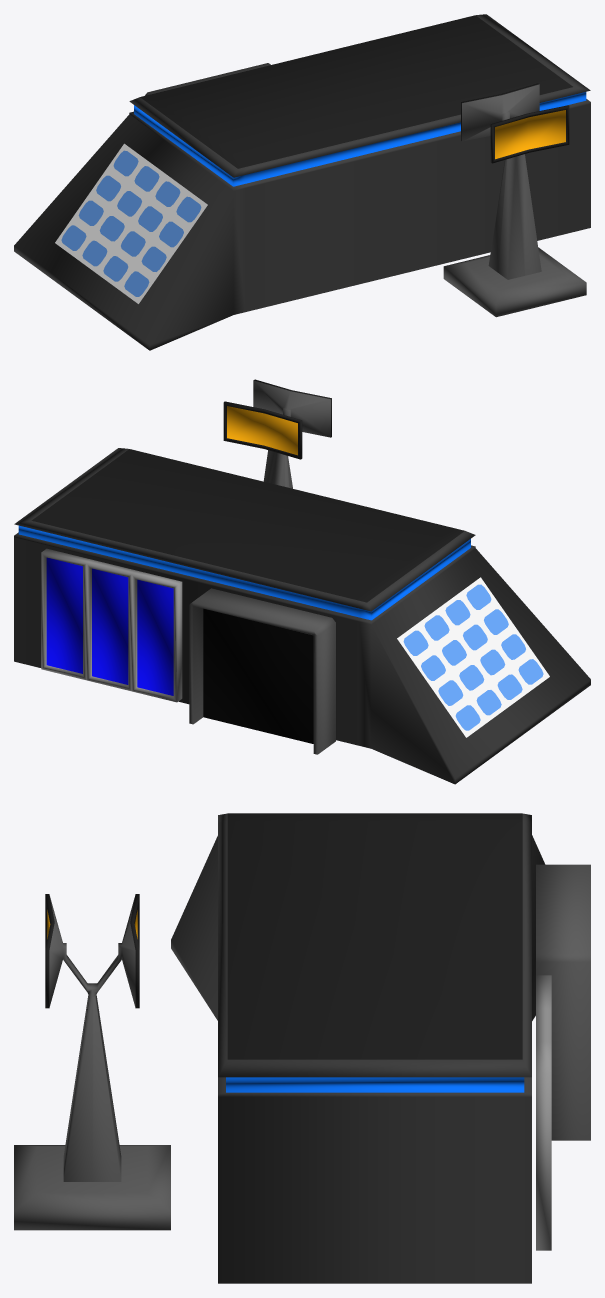
The model's file is NATO Outpost.obj.
3 views of the same model, one above another, from view 1: azimuth 30°, elevation 25°; view 2: azimuth 150°, elevation 25°; view 3: azimuth 270°, elevation 25° (orthographic). The views are drawn at different scales.
Parts seen in each view (by area): view 1: NATOOutpost_Cube.003; view 2: NATOOutpost_Cube.003; view 3: NATOOutpost_Cube.003.
Part boxes in pixels (bbox=[...]): NATOOutpost_Cube.003: bbox=[14, 14, 590, 350]; NATOOutpost_Cube.003: bbox=[14, 379, 590, 784]; NATOOutpost_Cube.003: bbox=[14, 813, 590, 1283].
Bounding box in the file's own units: 10.1 × 3.86 × 7.35.
